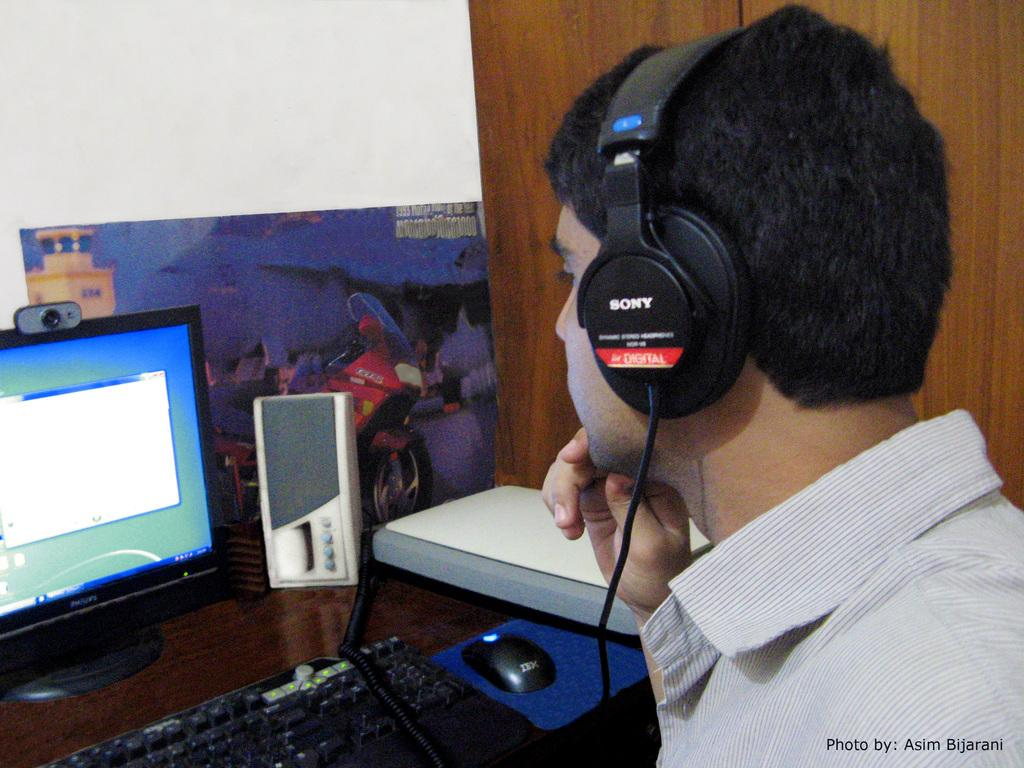Computer-keyboard: (18, 632, 479, 767)
Computer-monitor: (8, 303, 223, 691)
